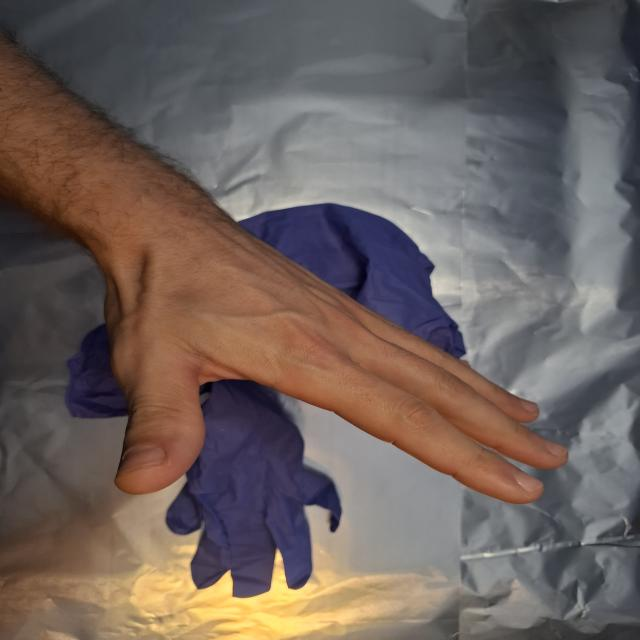glove_off: (98, 241, 572, 504)
